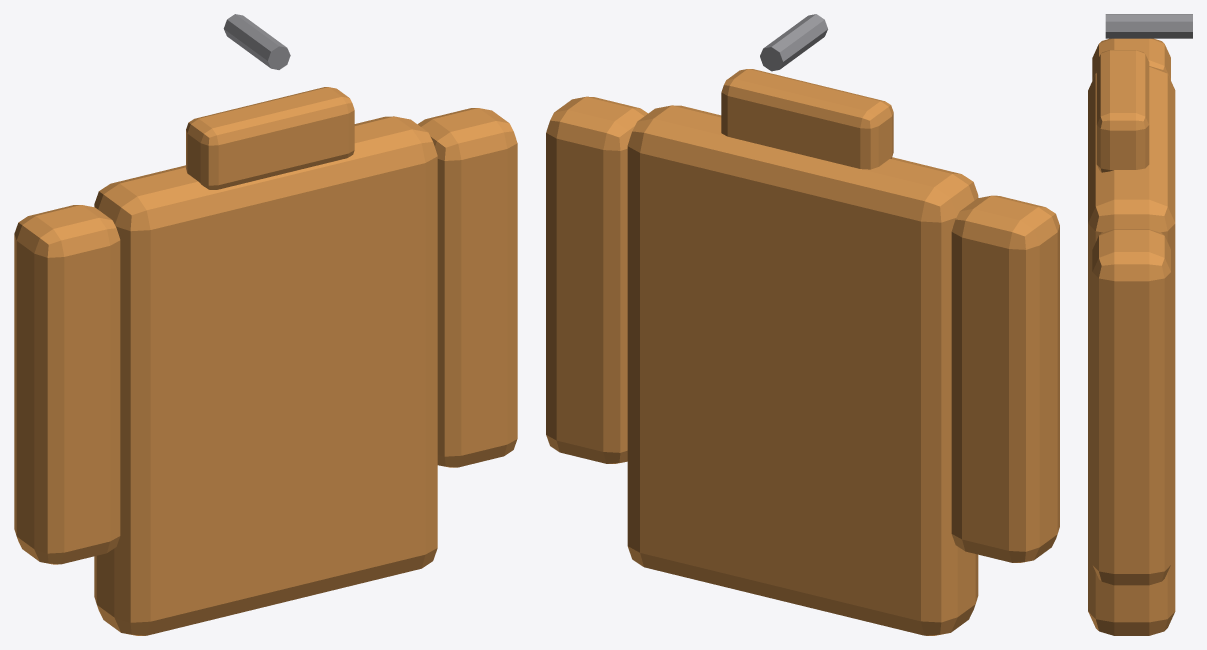
Rendered from dec_jacket.glb.
3 views of the same model, side by side, from view 1: azimuth 30°, elevation 25°; view 2: azimuth 150°, elevation 25°; view 3: azimuth 270°, elevation 25° (orthographic). The views are drawn at different scales.
Parts seen in each view (by area): view 1: dec_jacket; view 2: dec_jacket; view 3: dec_jacket.
Boxes of the visible parts, left/top/right/bottom form: dec_jacket: left=14, top=14, right=517, bottom=635; dec_jacket: left=546, top=14, right=1059, bottom=635; dec_jacket: left=1088, top=14, right=1192, bottom=635.
Bounding box in the file's own units: 0.63 × 0.7 × 0.12.
